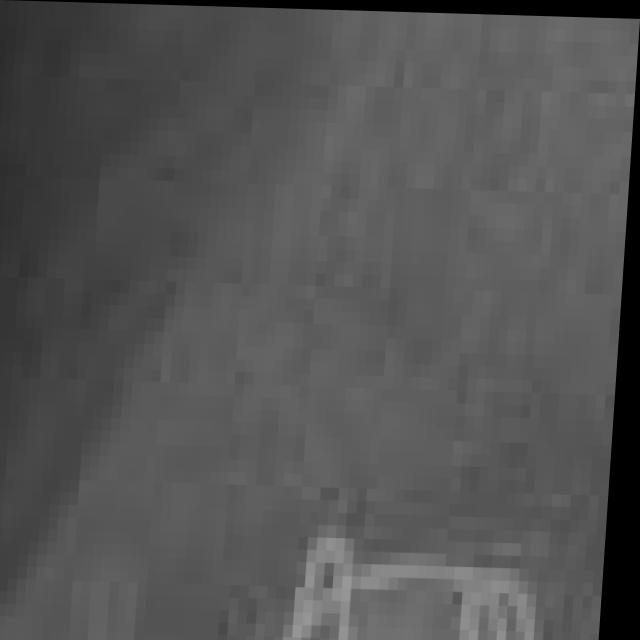fracture: (0, 3, 626, 640)
